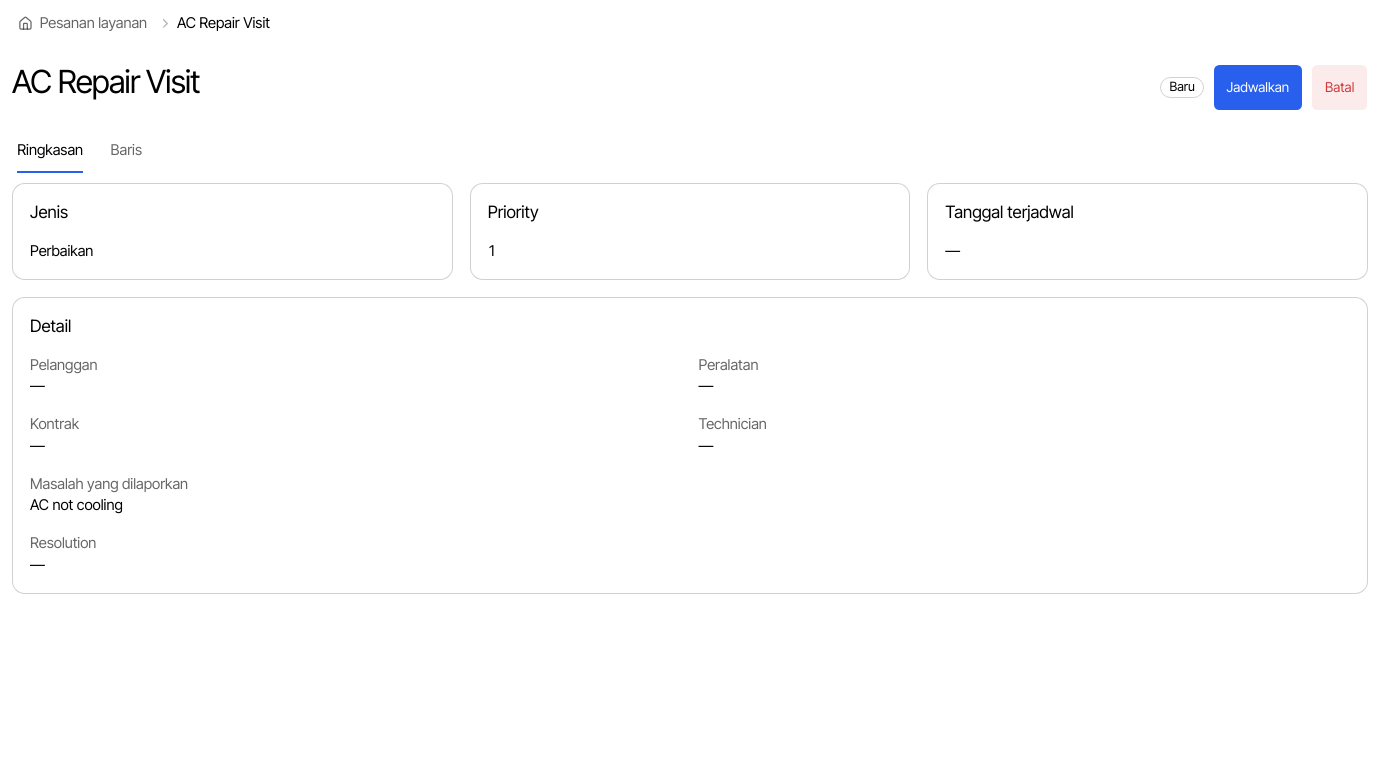
ServiceOrderDetail › switches to the lines tab
Expected: the heading "AC Repair Visit" is shown, [12, 64, 200, 100]
Click the tab "Baris". click: (126, 151)
box: [110, 128, 143, 174]
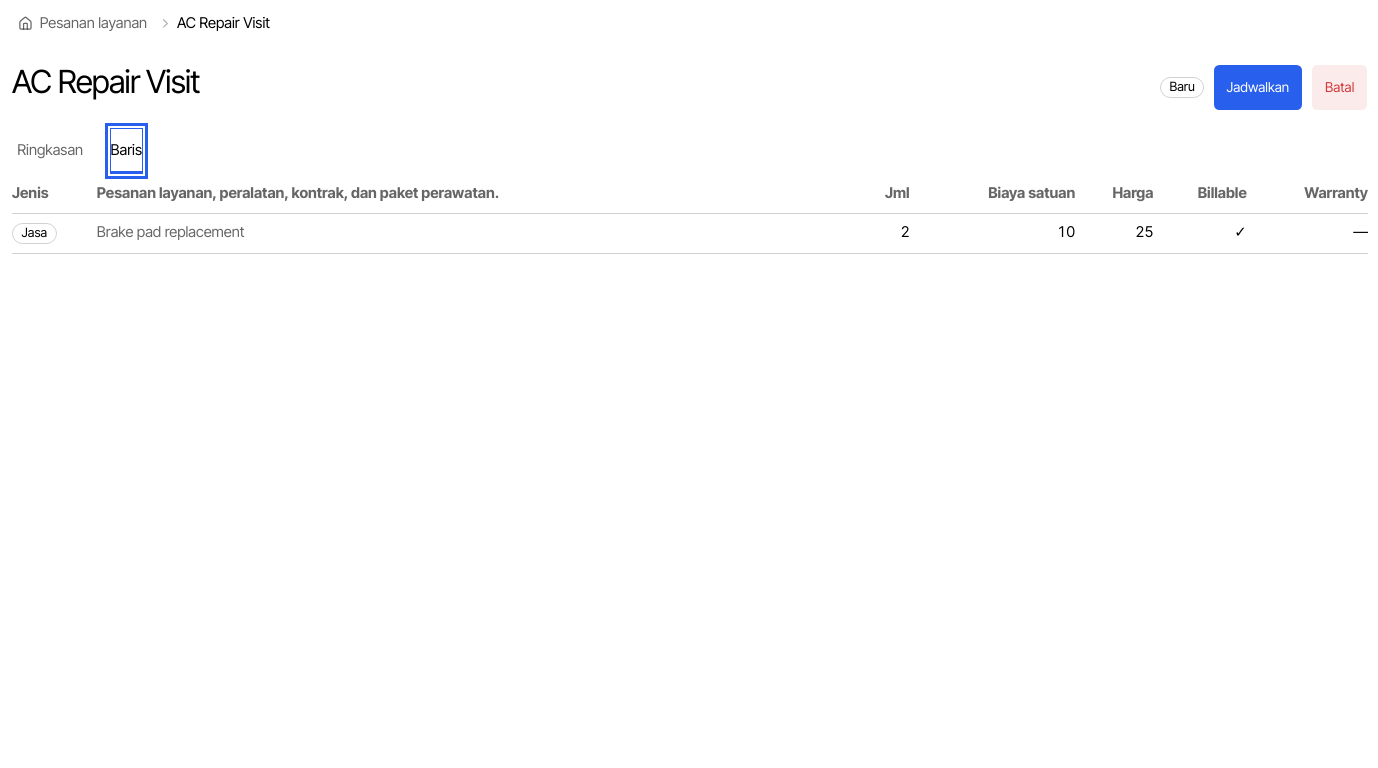
Now the text "Brake pad replacement" is shown, box [97, 213, 863, 253]
